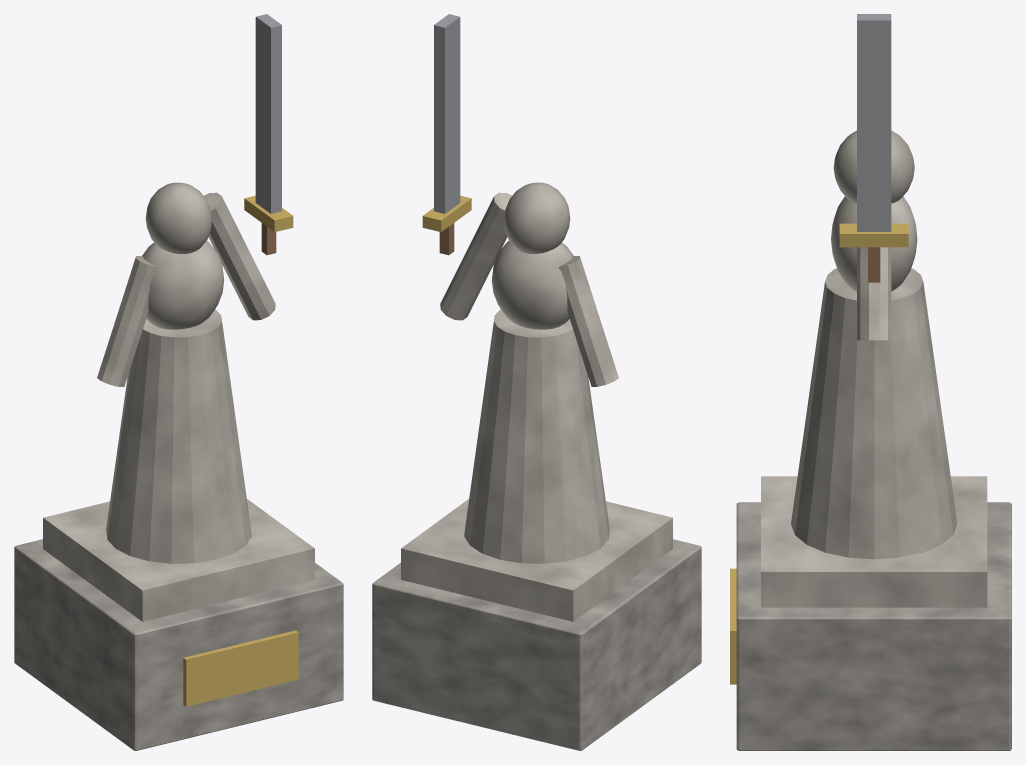
Rendered from statue.glb.
3 views of the same model, side by side, from view 1: azimuth 30°, elevation 25°; view 2: azimuth 150°, elevation 25°; view 3: azimuth 270°, elevation 25° (orthographic). The views are drawn at different scales.
Parts seen in each view (by area): view 1: s_torso, s_plinth, s_plaque, s_blade, s_guard; view 2: s_torso, s_plinth, s_blade, s_guard; view 3: s_torso, s_plinth, s_blade, s_guard, s_plaque.
Boxes of the visible parts, left/top/right/bottom form: s_torso: left=43, top=182, right=314, bottom=621; s_plinth: left=14, top=539, right=343, bottom=750; s_plaque: left=183, top=630, right=298, bottom=706; s_blade: left=255, top=14, right=281, bottom=213; s_guard: left=244, top=195, right=293, bottom=231; s_torso: left=401, top=182, right=672, bottom=621; s_plinth: left=372, top=539, right=701, bottom=750; s_blade: left=434, top=14, right=460, bottom=213; s_guard: left=422, top=195, right=471, bottom=231; s_torso: left=761, top=130, right=987, bottom=607; s_plinth: left=736, top=502, right=1011, bottom=750; s_blade: left=857, top=14, right=891, bottom=231; s_guard: left=839, top=223, right=908, bottom=247; s_plaque: left=730, top=568, right=736, bottom=684.
Size of the model in its own units: 0.56 by 1.63 by 0.573.
5 materials, 2 textured.
